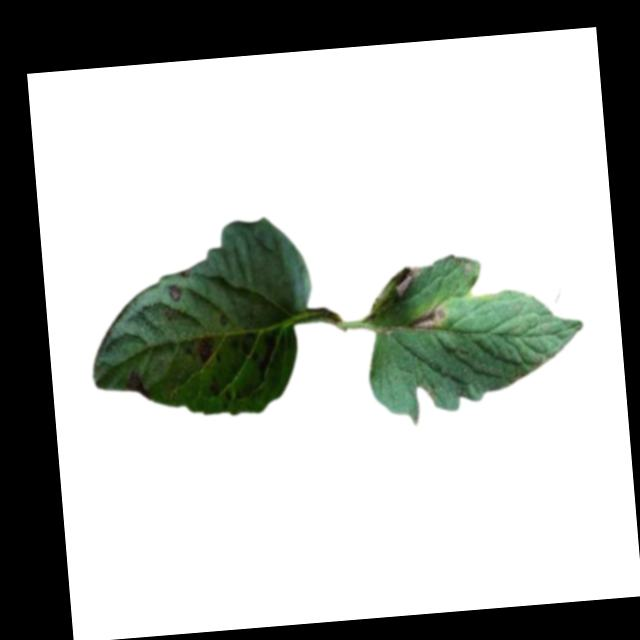Early_blight: (409, 304, 450, 334), (393, 261, 422, 296), (125, 370, 147, 395), (197, 333, 213, 364), (165, 284, 182, 304)
